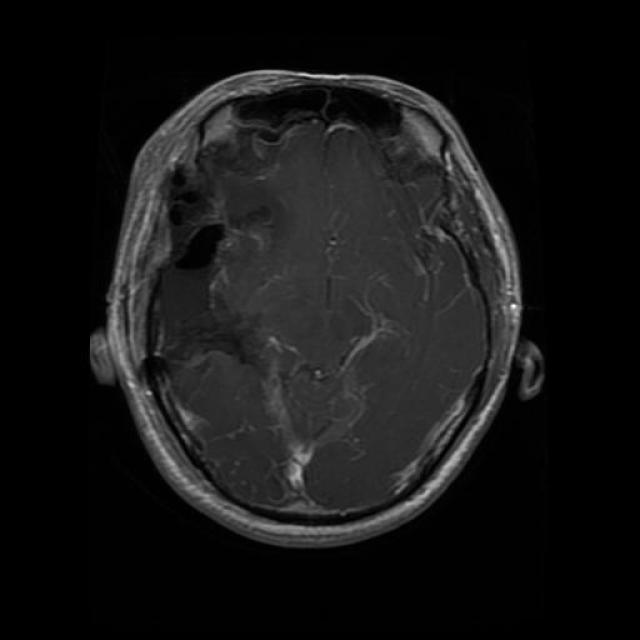glioma: (253, 332, 364, 466)
